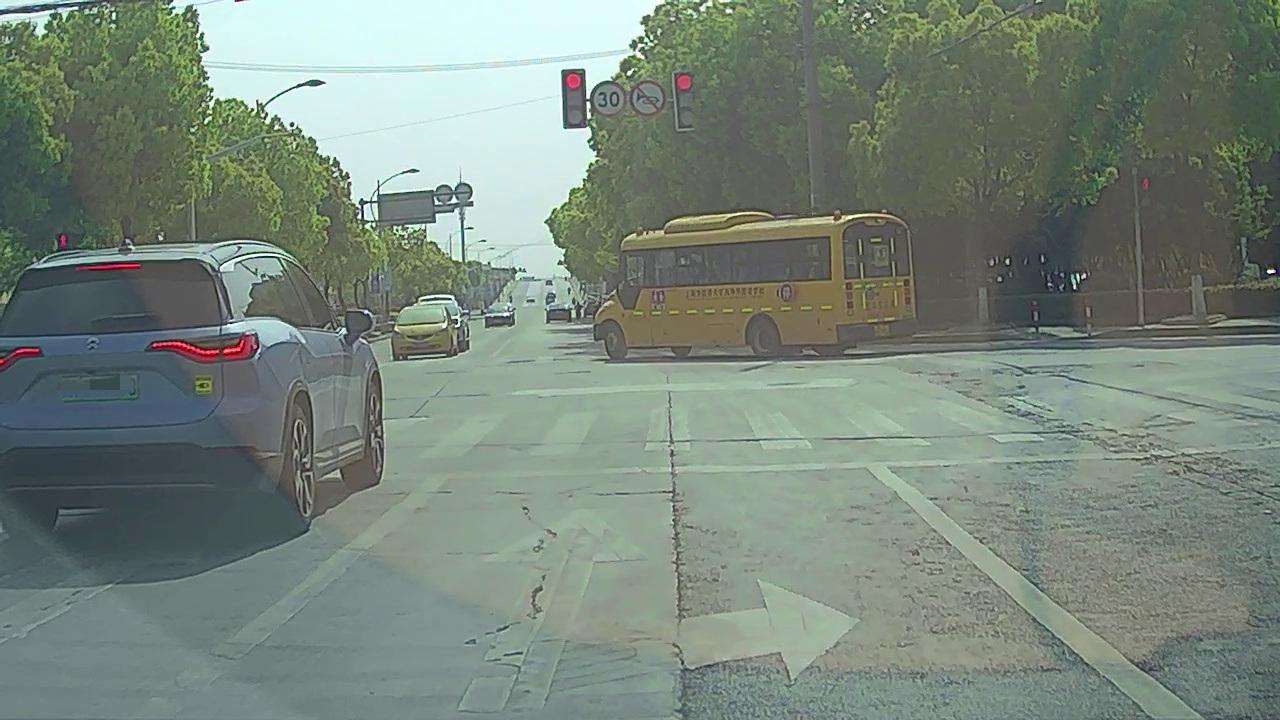traffic_light: (672, 73, 700, 128), (563, 69, 586, 126)
